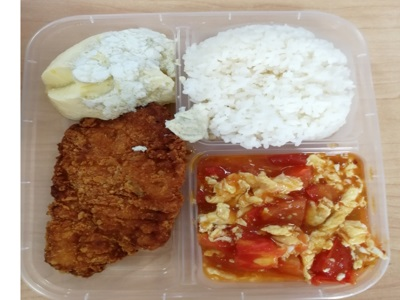jdg: (54, 34, 167, 106)
jdxhs: (201, 154, 373, 279)
jp: (45, 121, 165, 272)
rice: (194, 37, 342, 140)
